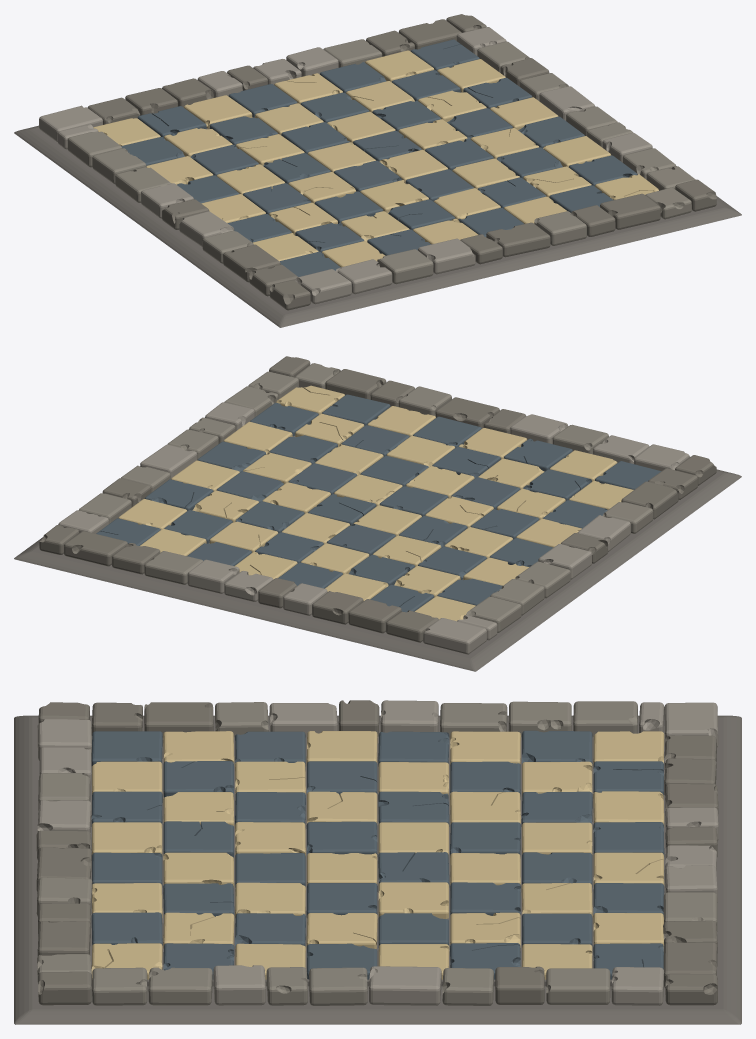
The model's file is KFB_ChessBoard.r2.glb.
3 renders of one model, top to bottom at view 1: azimuth 30°, elevation 25°; view 2: azimuth 150°, elevation 25°; view 3: azimuth 270°, elevation 25°, orthographic. The views are drawn at different scales.
Parts seen in each view (by area): view 1: KFB_ChessBoard, KFB_ChessFrame_31, KFB_ChessFrame_28, KFB_ChessFrame_26, KFB_ChessFrame_25, KFB_ChessFrame_23, KFB_Square_b8, KFB_Square_g8, KFB_ChessFrame_24, KFB_Square_d6, KFB_Square_c4, KFB_Square_f4 (+95 smaller); view 2: KFB_ChessBoard, KFB_ChessFrame_00, KFB_ChessFrame_10, KFB_ChessFrame_08, KFB_Square_d2, KFB_Square_f6, KFB_Square_c1, KFB_Square_g2, KFB_Square_h3, KFB_Square_h6, KFB_Square_b2, KFB_Square_c4 (+96 smaller); view 3: KFB_ChessBoard, KFB_ChessBoard_base, KFB_ChessFrame_17, KFB_ChessFrame_13, KFB_ChessFrame_20, KFB_Square_f5, KFB_Square_d4, KFB_Square_c1, KFB_Square_g1, KFB_Square_g4, KFB_Square_e2, KFB_Square_d2 (+98 smaller).
Part boxes in pixels (<box>): KFB_ChessBoard: <box>14,125,741,327</box>; KFB_ChessFrame_31: <box>600,193,660,229</box>; KFB_ChessFrame_28: <box>486,222,550,257</box>; KFB_ChessFrame_26: <box>418,238,475,274</box>; KFB_ChessFrame_25: <box>377,249,433,284</box>; KFB_ChessFrame_23: <box>295,269,351,304</box>; KFB_Square_b8: <box>137,106,206,137</box>; KFB_Square_g8: <box>365,50,434,81</box>; KFB_ChessFrame_24: <box>336,259,392,294</box>; KFB_Square_d6: <box>281,122,349,153</box>; KFB_Square_c4: <box>288,172,356,203</box>; KFB_Square_f4: <box>425,138,493,170</box>; KFB_ChessBoard: <box>14,466,741,671</box>; KFB_ChessFrame_00: <box>423,618,486,654</box>; KFB_ChessFrame_10: <box>64,531,127,566</box>; KFB_ChessFrame_08: <box>144,551,202,584</box>; KFB_Square_d2: <box>432,446,500,478</box>; KFB_Square_f6: <box>235,501,304,533</box>; KFB_Square_c1: <box>504,438,572,471</box>; KFB_Square_g2: <box>295,413,364,447</box>; KFB_Square_h3: <box>223,421,292,454</box>; KFB_Square_h6: <box>145,479,213,510</box>; KFB_Square_b2: <box>523,469,591,500</box>; KFB_Square_c4: <box>425,496,493,527</box>; KFB_ChessBoard: <box>14,715,741,1024</box>; KFB_ChessBoard_base: <box>89,735,665,986</box>; KFB_ChessFrame_17: <box>369,966,441,1005</box>; KFB_ChessFrame_13: <box>148,967,212,1005</box>; KFB_ChessFrame_20: <box>546,968,610,1004</box>; KFB_Square_f5: <box>378,882,448,918</box>; KFB_Square_d4: <box>306,821,377,856</box>; KFB_Square_c1: <box>91,791,162,826</box>; KFB_Square_g1: <box>91,912,162,945</box>; KFB_Square_g4: <box>306,913,377,948</box>; KFB_Square_e2: <box>163,852,234,887</box>; KFB_Square_d2: <box>163,821,233,857</box>.
Bounding box in the file's own units: 49.47 × 2.16 × 49.47.
